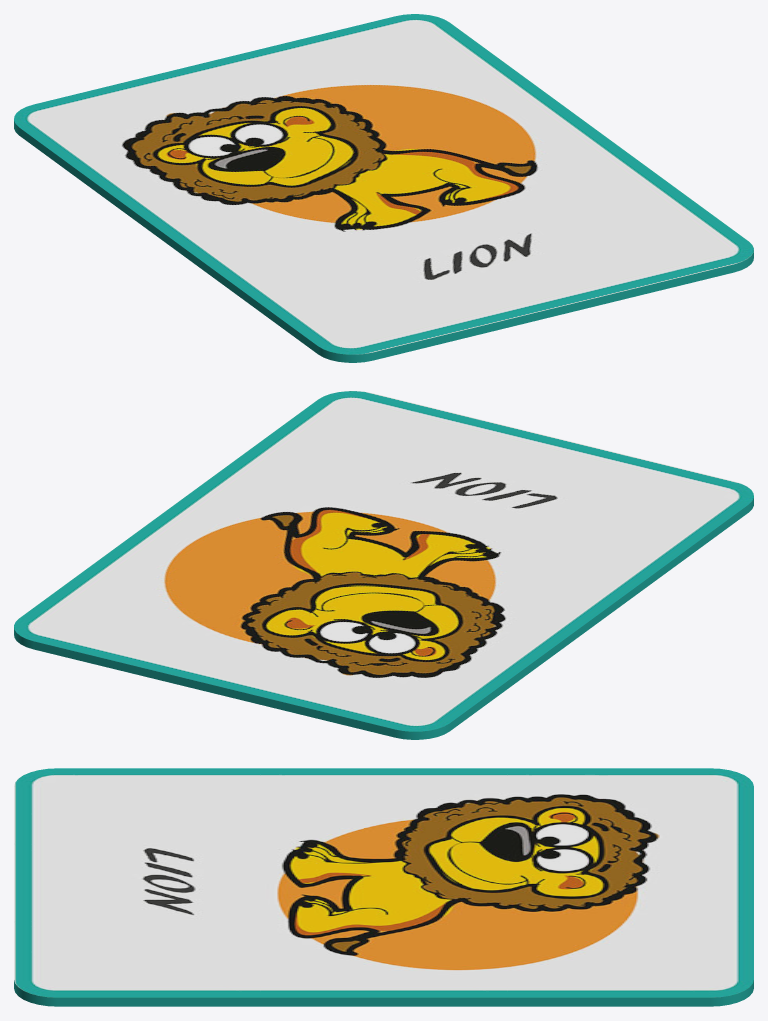
Rendered from carta memory_lion.fbx.
The picture shows the model from 3 angles, top to bottom: view 1: azimuth 30°, elevation 25°; view 2: azimuth 150°, elevation 25°; view 3: azimuth 270°, elevation 25°; orthographic projection. The views are drawn at different scales.
Parts seen in each view (by area): view 1: pCube1; view 2: pCube1; view 3: pCube1.
Boxes of the visible parts, box(x1,y1,x2,y2) form: pCube1: box(14, 14, 753, 362); pCube1: box(14, 391, 753, 739); pCube1: box(14, 768, 753, 1006).
Size of the model in its own units: 5.5 by 0.1 by 7.5.
1 material, 1 textured.
